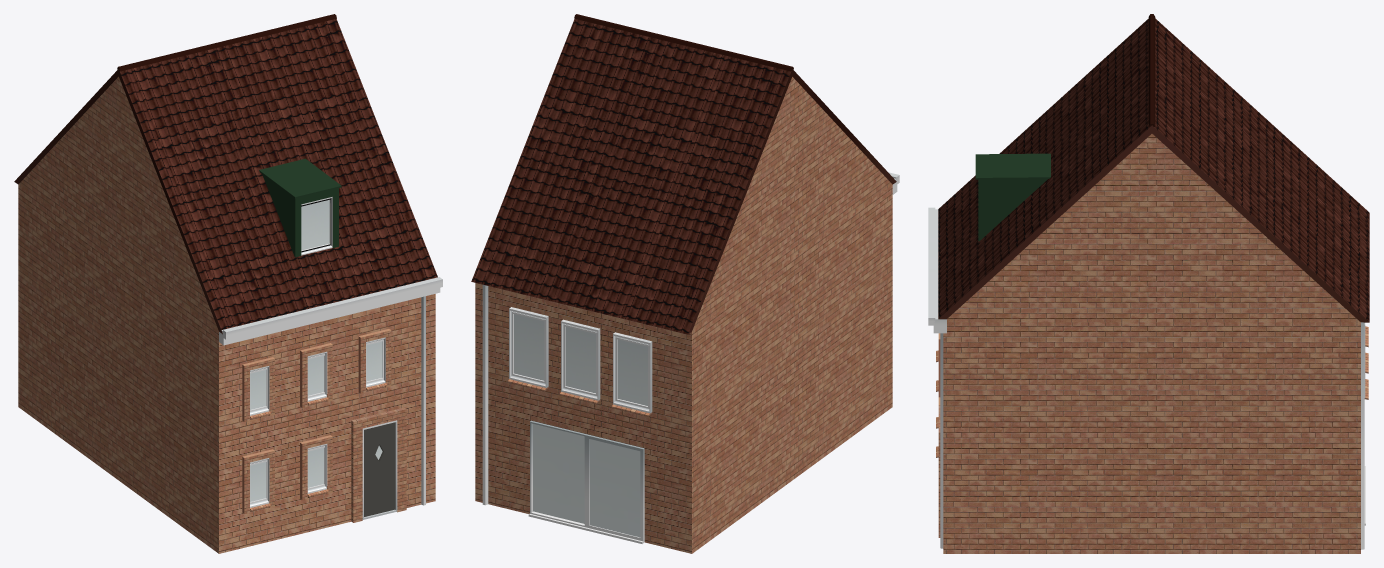
Rendered from Buorkerij_67.fbx.
The picture shows the model from 3 angles, left to right: view 1: azimuth 30°, elevation 25°; view 2: azimuth 150°, elevation 25°; view 3: azimuth 270°, elevation 25°; orthographic projection. The views are drawn at different scales.
Parts seen in each view (by area): view 1: Buorkerij_67; view 2: Buorkerij_67; view 3: Buorkerij_67.
Boxes of the visible parts, <box> form: Buorkerij_67: <box>14,14,442,553</box>; Buorkerij_67: <box>471,14,899,553</box>; Buorkerij_67: <box>928,14,1369,553</box>.
Size of the model in its own units: 591 by 1077 by 1001.
